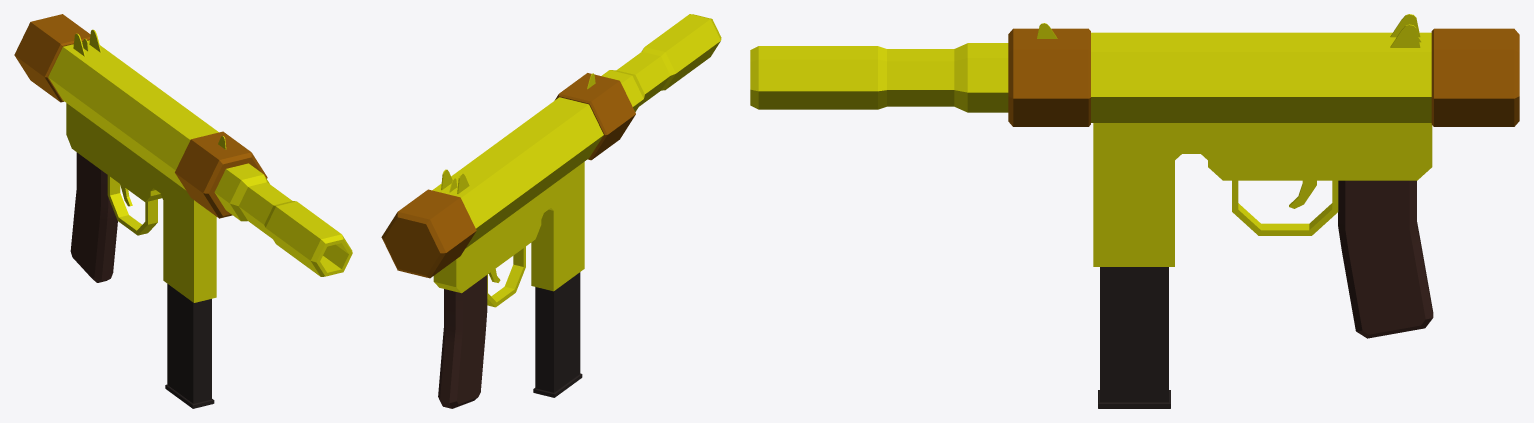
File: SMG_Barrel.fbx
The picture shows the model from 3 angles, left to right: view 1: azimuth 30°, elevation 25°; view 2: azimuth 150°, elevation 25°; view 3: azimuth 270°, elevation 25°; orthographic projection. The views are drawn at different scales.
Parts seen in each view (by area): view 1: SMG; view 2: SMG; view 3: SMG.
Part boxes in pixels (x1,y1,x2,y2): SMG: (14,14,352,408); SMG: (381,14,721,408); SMG: (750,14,1519,408).
Bounding box in the file's own units: 0.0404 × 0.1725 × 0.3142.
